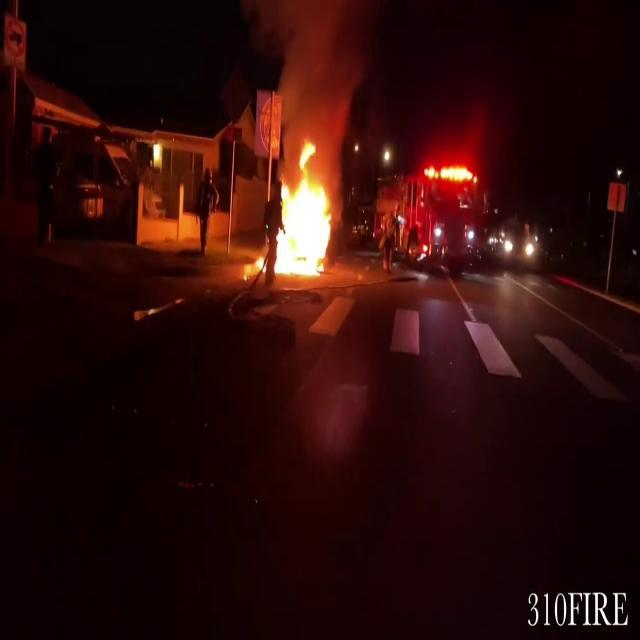Fire: (265, 141, 337, 279)
Smoke: (262, 1, 368, 152)
